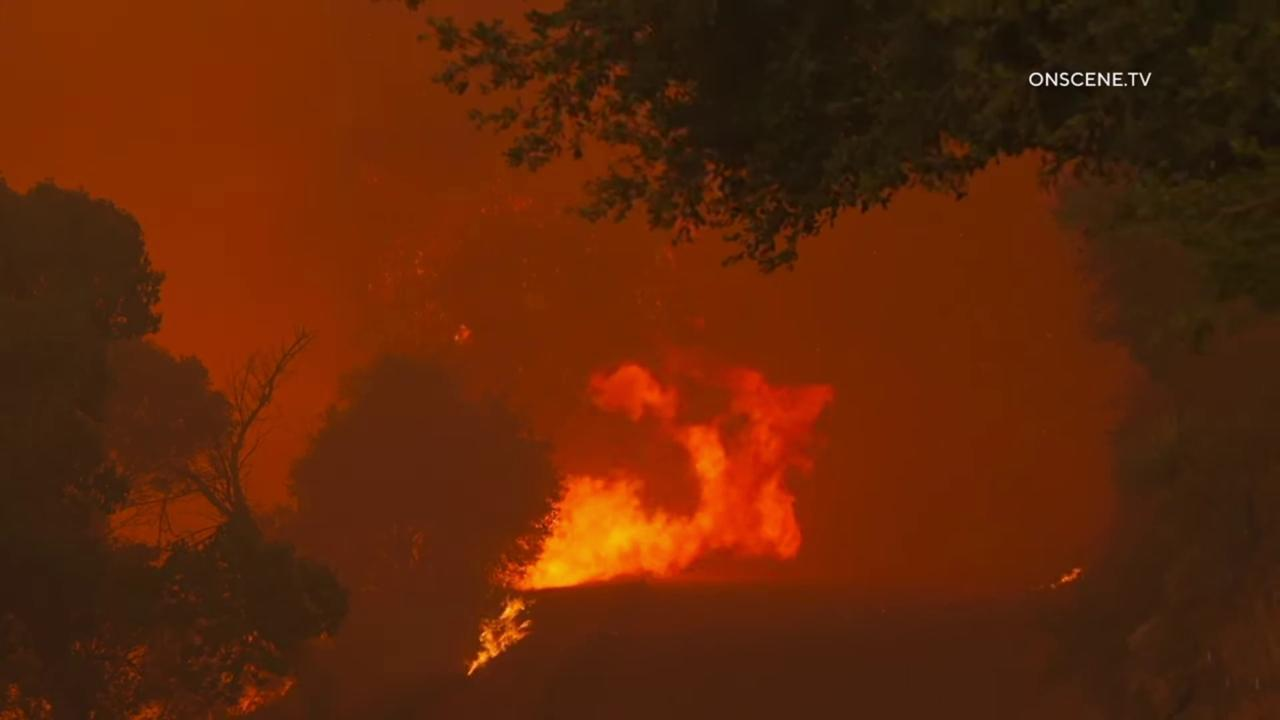fire: (486, 331, 840, 593), (464, 594, 539, 678), (1045, 565, 1087, 594)
smoke: (0, 0, 1280, 720)
